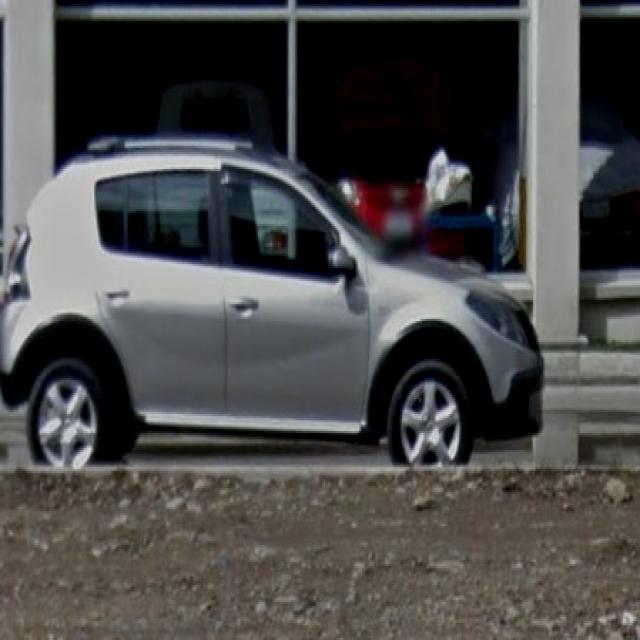car: (4, 134, 552, 472)
